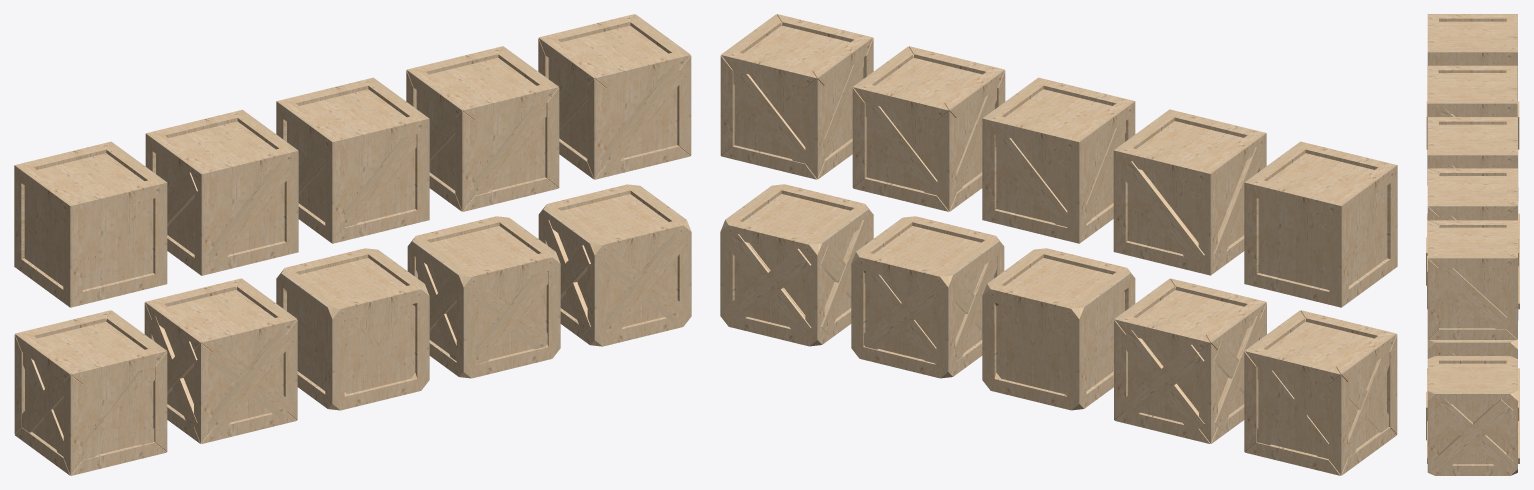
File: boxes.glb
3 views of the same model, side by side, from view 1: azimuth 30°, elevation 25°; view 2: azimuth 150°, elevation 25°; view 3: azimuth 270°, elevation 25° (orthographic). The views are drawn at different scales.
Parts seen in each view (by area): view 1: Box_0, Box_5, Box_4, Box_2, Box_1, Box_7, Box_8, Box_6, Box_9, Box_3; view 2: Box_0, Box_5, Box_4, Box_2, Box_1, Box_8, Box_7, Box_9, Box_3, Box_6; view 3: Box_9, Box_4, Box_1, Box_3, Box_0, Box_2, Box_8, Box_6.
Boxes of the visible parts, left/top/right/bottom form: Box_0: left=14, top=141, right=167, bottom=307; Box_5: left=14, top=310, right=167, bottom=475; Box_4: left=538, top=14, right=691, bottom=179; Box_2: left=276, top=77, right=429, bottom=243; Box_1: left=145, top=109, right=298, bottom=275; Box_7: left=276, top=248, right=429, bottom=410; Box_8: left=407, top=216, right=560, bottom=378; Box_6: left=144, top=278, right=297, bottom=443; Box_9: left=538, top=184, right=691, bottom=346; Box_3: left=406, top=46, right=559, bottom=211; Box_0: left=1244, top=141, right=1397, bottom=307; Box_5: left=1244, top=310, right=1397, bottom=475; Box_4: left=720, top=14, right=873, bottom=179; Box_2: left=982, top=77, right=1135, bottom=243; Box_1: left=1113, top=109, right=1266, bottom=275; Box_8: left=851, top=216, right=1004, bottom=378; Box_7: left=982, top=248, right=1135, bottom=410; Box_9: left=720, top=184, right=873, bottom=346; Box_3: left=852, top=46, right=1005, bottom=211; Box_6: left=1114, top=278, right=1266, bottom=443; Box_9: left=1426, top=356, right=1519, bottom=475; Box_4: left=1427, top=220, right=1517, bottom=339; Box_1: left=1426, top=65, right=1519, bottom=185; Box_3: left=1427, top=168, right=1517, bottom=220; Box_0: left=1427, top=14, right=1517, bottom=100; Box_2: left=1427, top=117, right=1517, bottom=168; Box_8: left=1427, top=340, right=1517, bottom=358; Box_6: left=1426, top=201, right=1519, bottom=320.
Size of the model in its own units: 1284 by 532 by 208.
1 material, 1 textured.
